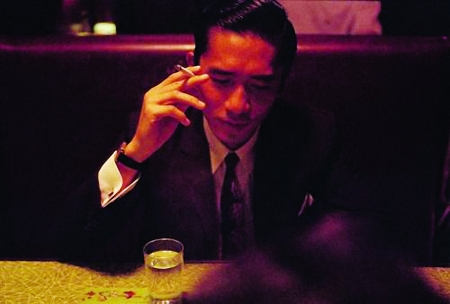cigarette: (175, 62, 197, 77)
